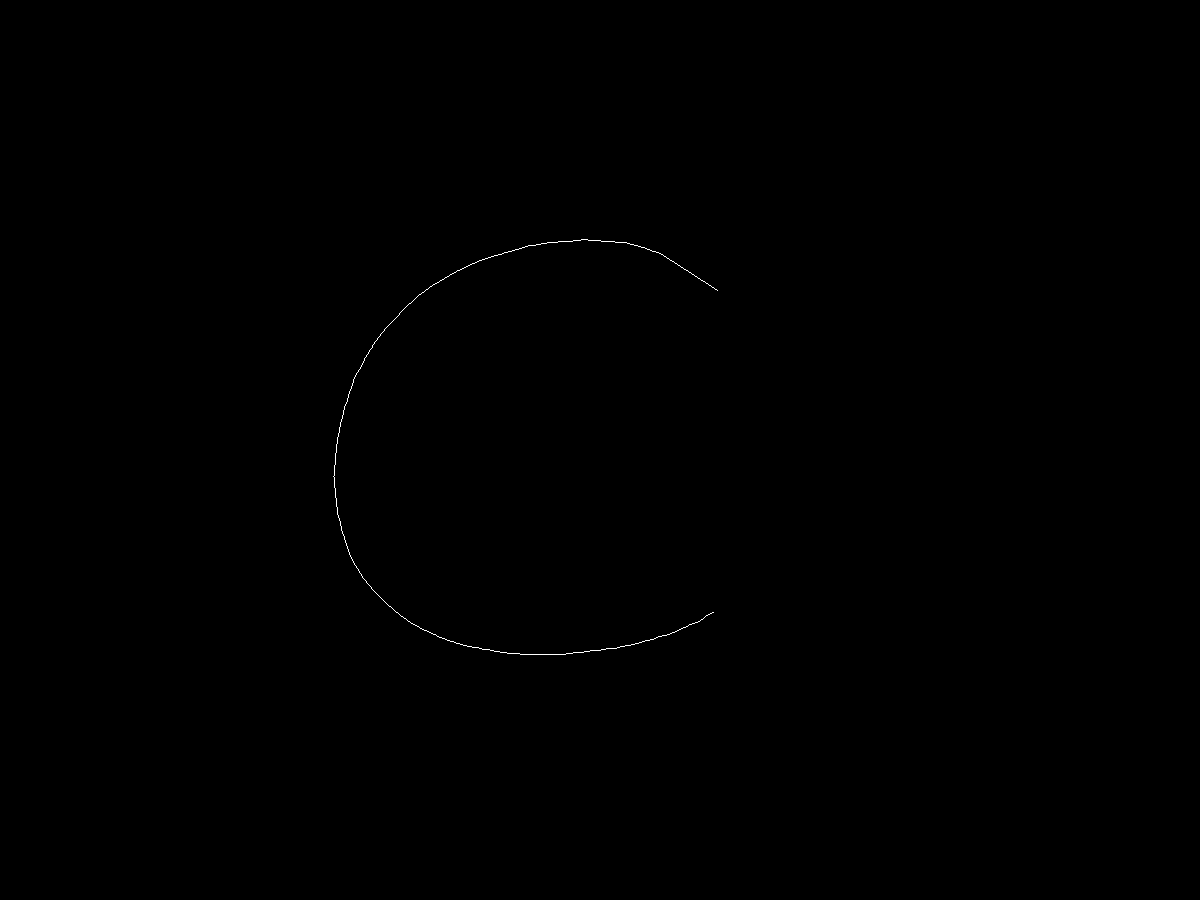dian1: (707, 285, 725, 303)
dian2: (709, 600, 726, 624)
